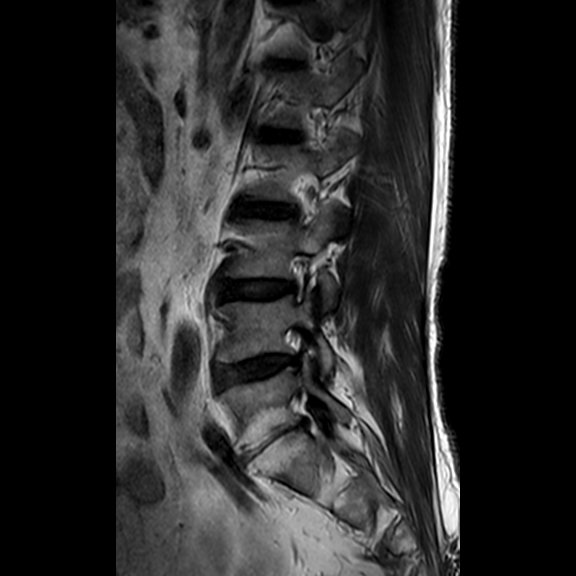LFS0: (275, 244, 320, 311)
